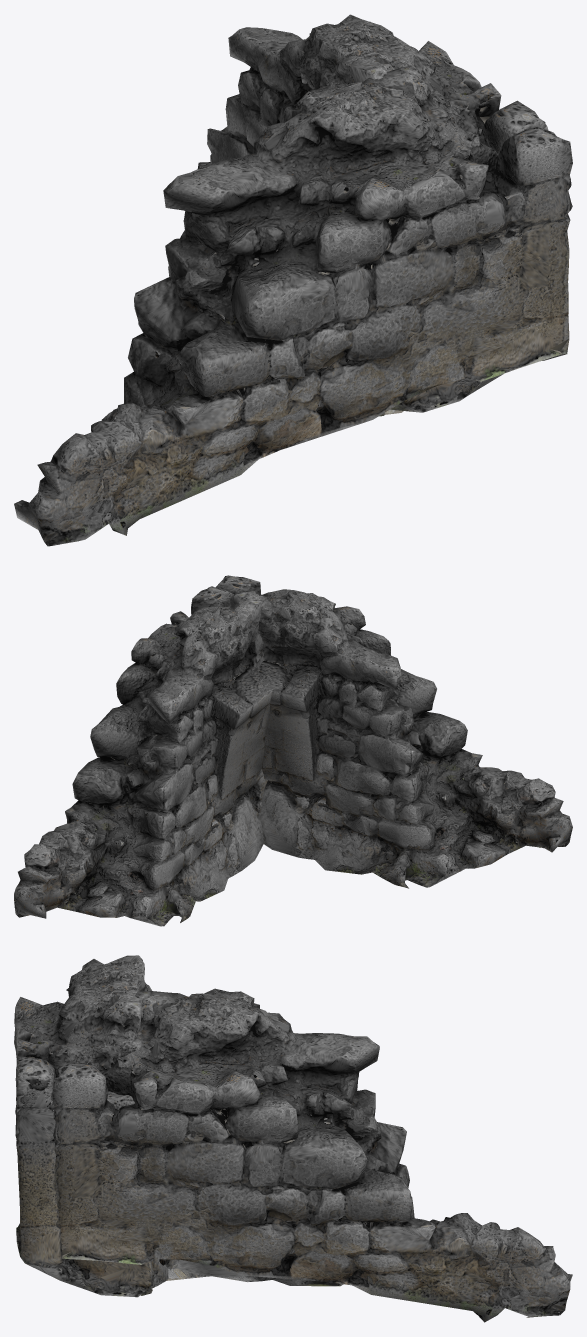
File: StoneCorner.fbx
The picture shows the model from 3 angles, top to bottom: view 1: azimuth 30°, elevation 25°; view 2: azimuth 150°, elevation 25°; view 3: azimuth 270°, elevation 25°; orthographic projection. The views are drawn at different scales.
Parts seen in each view (by area): view 1: StoneCorner; view 2: StoneCorner; view 3: StoneCorner.
Part boxes in pixels (x1,y1,x2,y2): StoneCorner: (14,14,572,546); StoneCorner: (14,575,572,926); StoneCorner: (14,955,572,1322).
Bounding box in the file's own units: 339 × 227 × 363.
